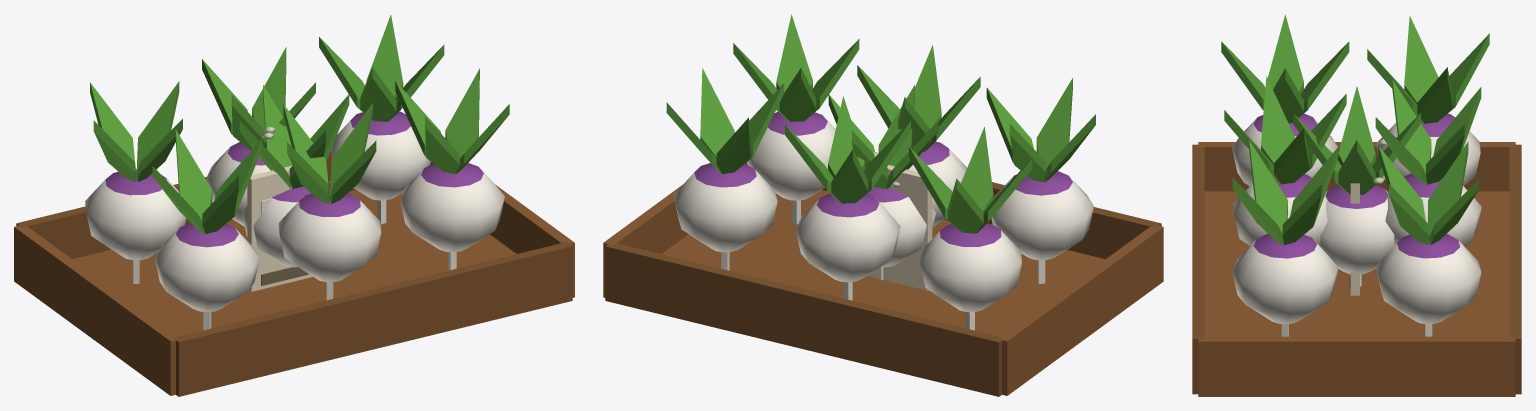
Rendered from Veg_Turnip.fbx.
The picture shows the model from 3 angles, left to right: view 1: azimuth 30°, elevation 25°; view 2: azimuth 150°, elevation 25°; view 3: azimuth 270°, elevation 25°; orthographic projection.
Visible parts, largest first — view 1: Veg_Turnip__Stack, Veg_Turnip, Veg_Turnip__Seed; view 2: Veg_Turnip__Stack, Veg_Turnip, Veg_Turnip__Seed; view 3: Veg_Turnip__Stack, Veg_Turnip, Veg_Turnip__Seed.
Part boxes in pixels (left/top/right/bottom): Veg_Turnip__Stack: left=14, top=14, right=574, bottom=396; Veg_Turnip: left=239, top=85, right=349, bottom=267; Veg_Turnip__Seed: left=247, top=166, right=312, bottom=291; Veg_Turnip__Stack: left=603, top=14, right=1163, bottom=396; Veg_Turnip: left=828, top=85, right=938, bottom=279; Veg_Turnip__Seed: left=867, top=165, right=932, bottom=290; Veg_Turnip__Stack: left=1192, top=14, right=1521, bottom=396; Veg_Turnip: left=1293, top=86, right=1420, bottom=286; Veg_Turnip__Seed: left=1349, top=183, right=1359, bottom=295.
Size of the model in its own units: 0.31 by 0.1415 by 0.216.
